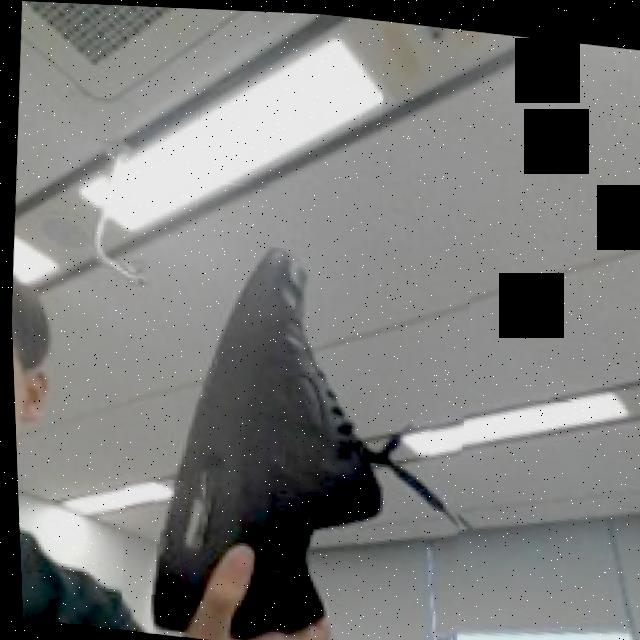shoe: (103, 218, 481, 640)
